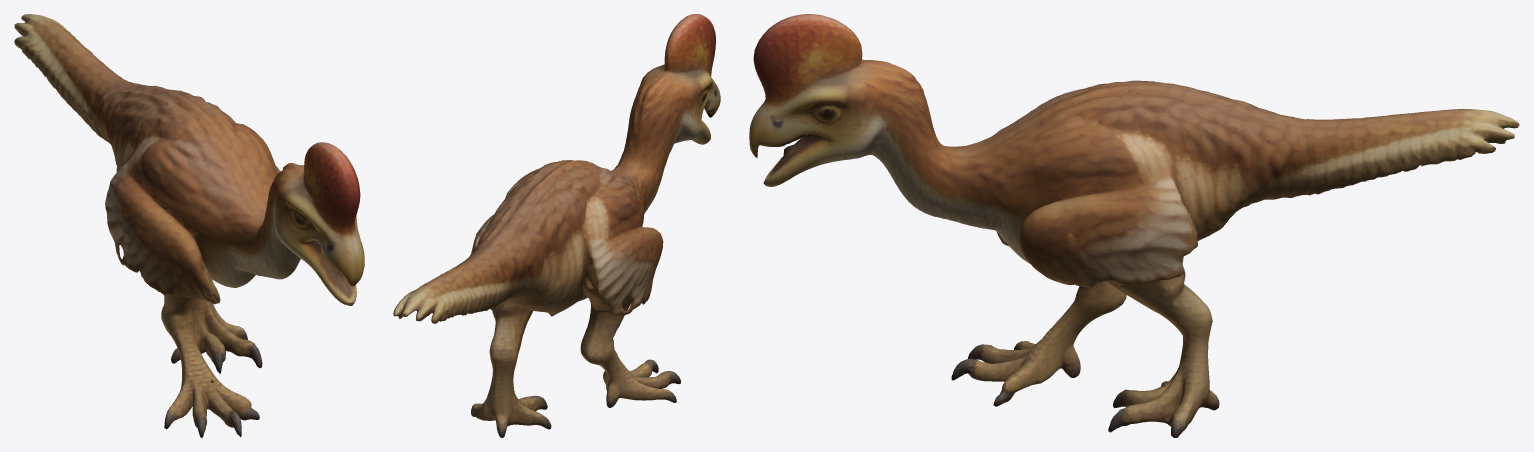
3 renders of one model, left to right at view 1: azimuth 30°, elevation 25°; view 2: azimuth 150°, elevation 25°; view 3: azimuth 270°, elevation 25°, orthographic. The views are drawn at different scales.
Parts seen in each view (by area): view 1: world; view 2: world; view 3: world.
Part boxes in pixels (x1=…): world: x1=14, y1=14, x2=364, y2=437; world: x1=393, y1=14, x2=720, y2=437; world: x1=749, y1=14, x2=1519, y2=437.
Size of the model in its own units: 0.4981 by 1 by 1.8.
1 material, 1 textured.
